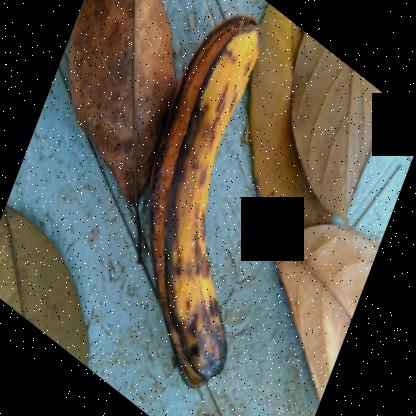rotten: (137, 12, 273, 402)
